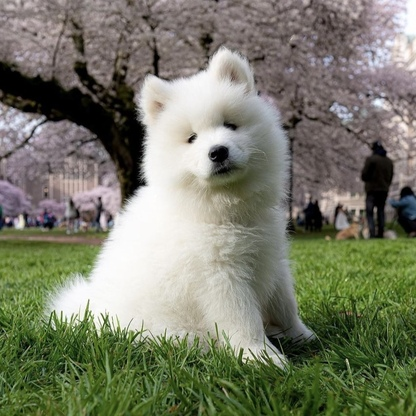samoyed: (36, 40, 324, 374)
